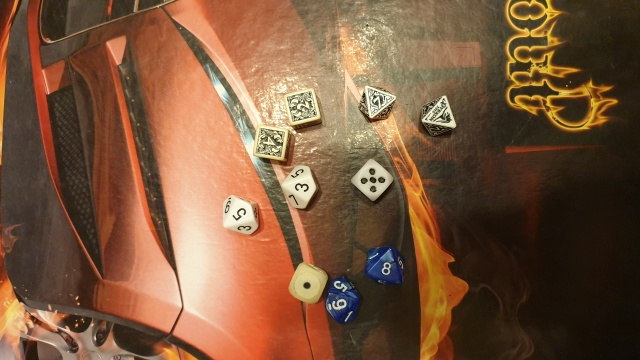d10-3: (275, 165, 321, 210)
d10-5: (219, 193, 265, 239)
d10-8: (378, 258, 393, 280)
d10-9: (322, 275, 360, 326)
d6-1: (286, 260, 326, 304)
d6-5: (350, 157, 394, 205)
d6p-2: (285, 88, 321, 126)
d6p-4: (254, 127, 288, 162)
d8p-1: (419, 94, 460, 138)
d8p-7: (355, 81, 396, 124)
